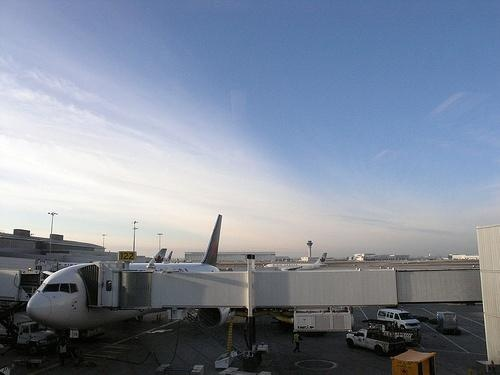aeroplane: (27, 215, 234, 334), (265, 253, 330, 276)
car: (346, 326, 405, 357), (376, 309, 422, 332)
